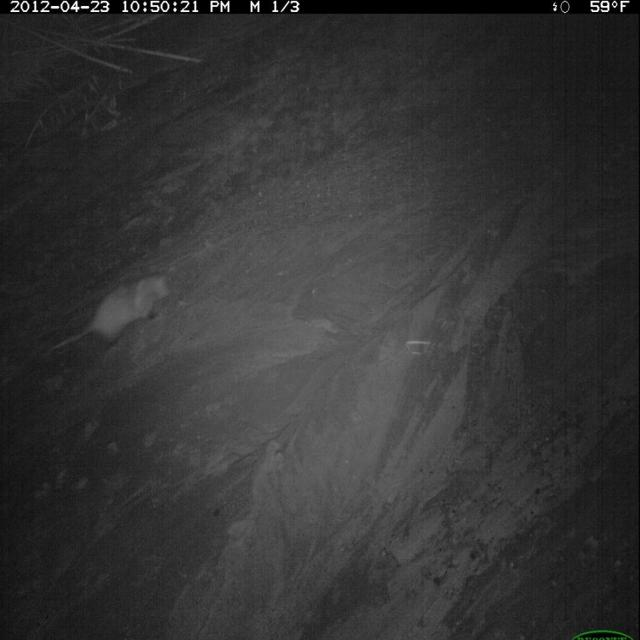opossum: (46, 266, 179, 357)
